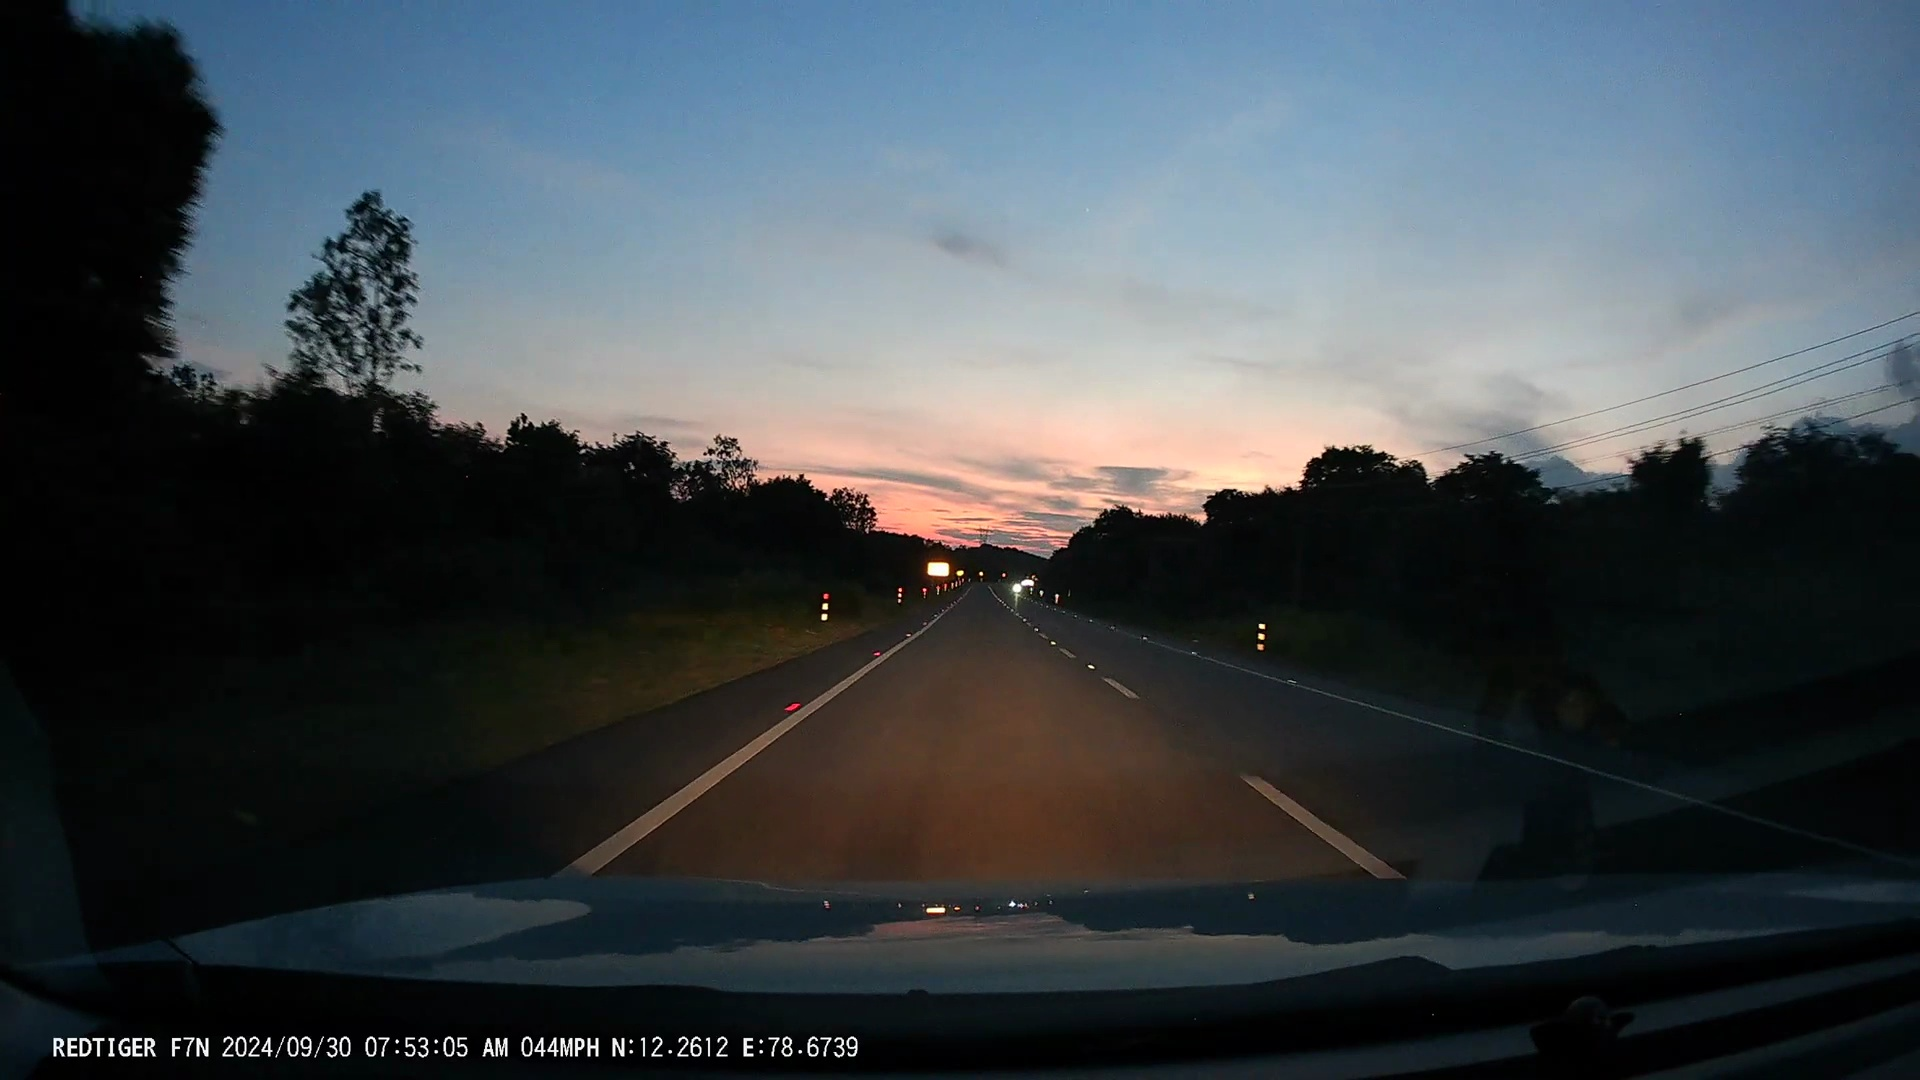headlight: (1011, 583, 1022, 596)
two wheeler: (1009, 575, 1022, 603)
